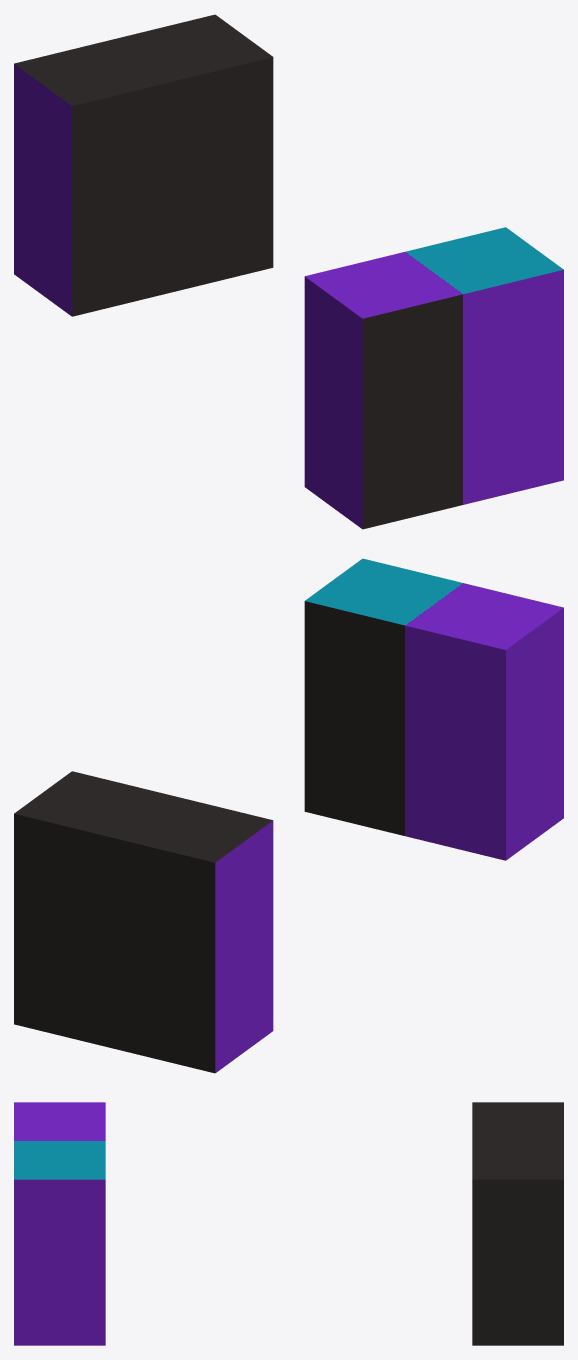
The model's file is Wheel.obj.
3 renders of one model, top to bottom at view 1: azimuth 30°, elevation 25°; view 2: azimuth 150°, elevation 25°; view 3: azimuth 270°, elevation 25°, orthographic. The views are drawn at different scales.
Parts seen in each view (by area): view 1: Wheel; view 2: Wheel; view 3: Wheel.
Part boxes in pixels (bbox=[...]): Wheel: bbox=[14, 14, 563, 529]; Wheel: bbox=[14, 558, 563, 1073]; Wheel: bbox=[14, 1102, 563, 1345].
Bounding box in the file's own units: 0.125 × 0.125 × 0.375.
